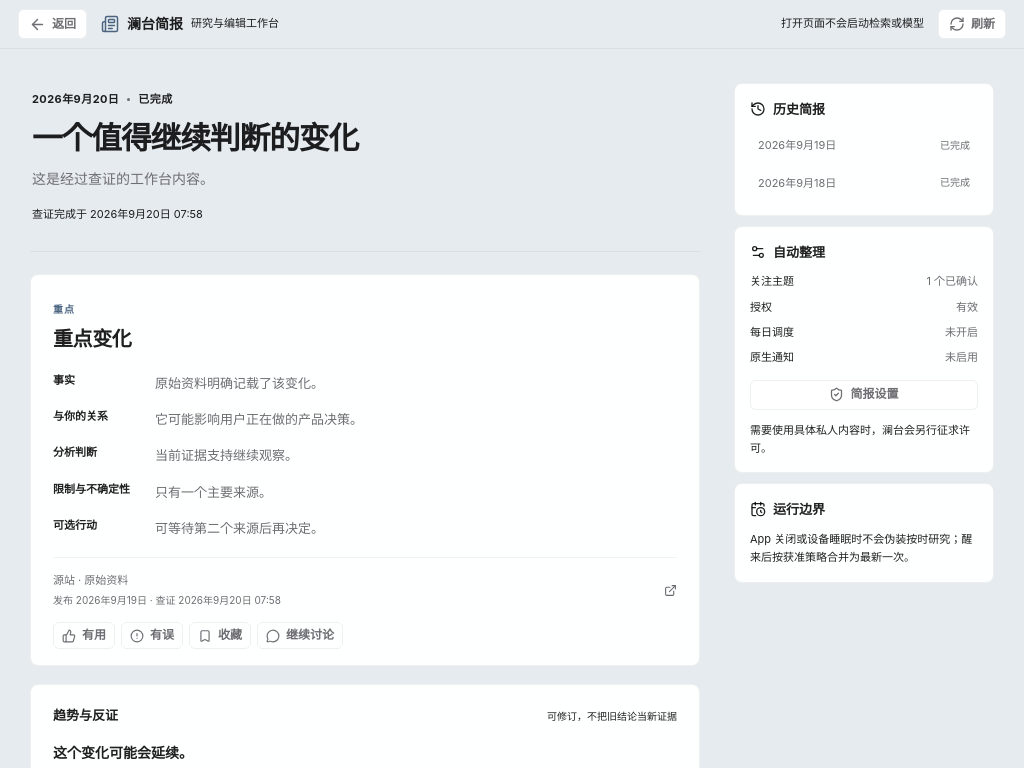
DailyBriefPage › preserves a newer history choice while refresh resolves an older edition
What coordinates should you click on to do the following:
click the button "2026年9月19日 已完成"
I would click on:
 (864, 146)
Its box is [750,129,978,163].
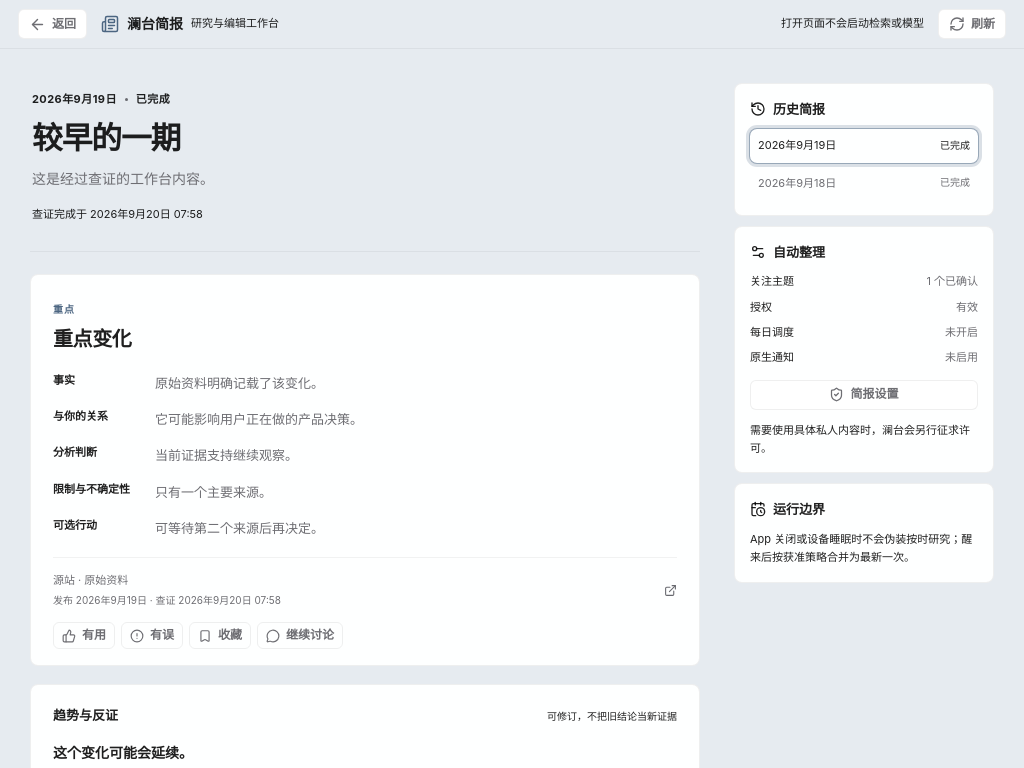
What coordinates should you click on to do the following:
click the button "2026年9月18日 已完成"
I would click on:
 (864, 183)
Its box is [750,167,978,200].
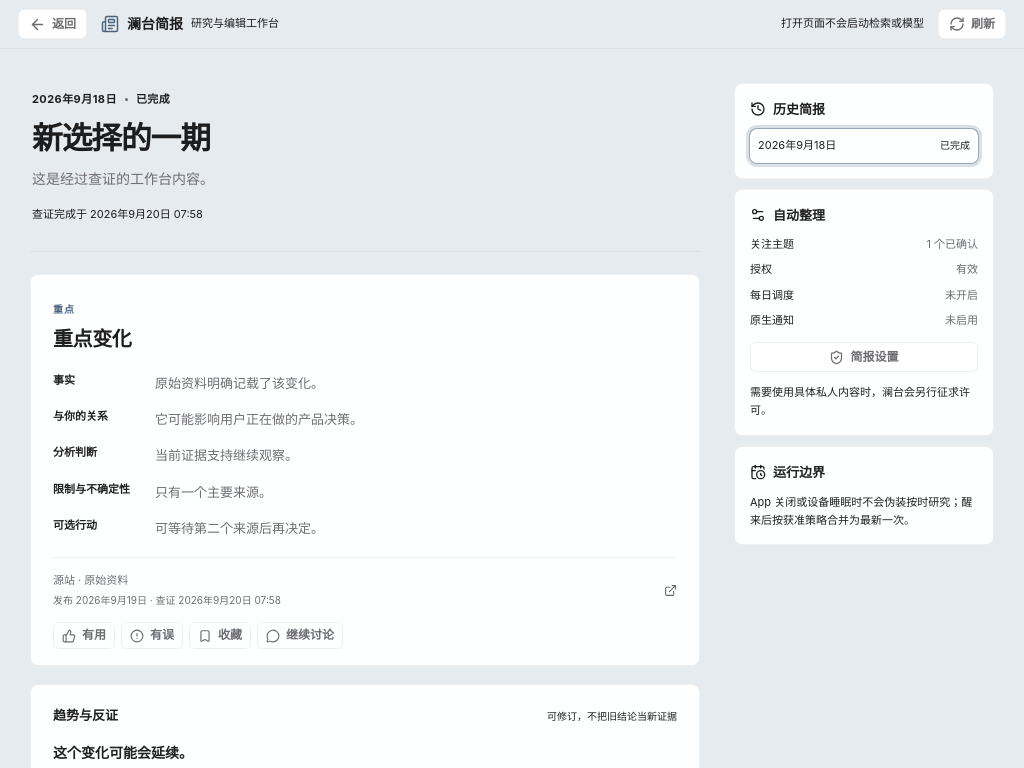
Result: the heading "新选择的一期" is shown at [32,119,210,156]
Result: the heading "较早的一期" is gone
